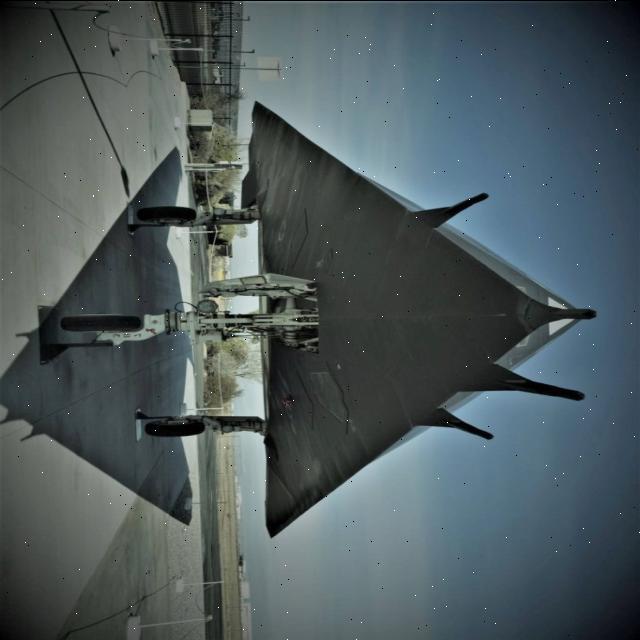F117: (18, 64, 638, 548)
